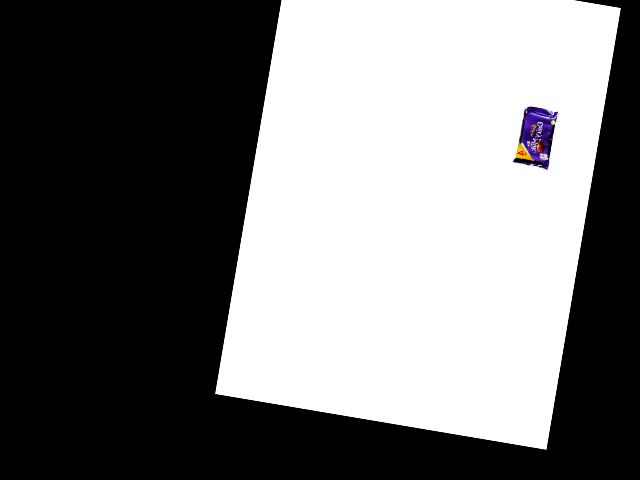chocolate: (512, 103, 563, 177)
